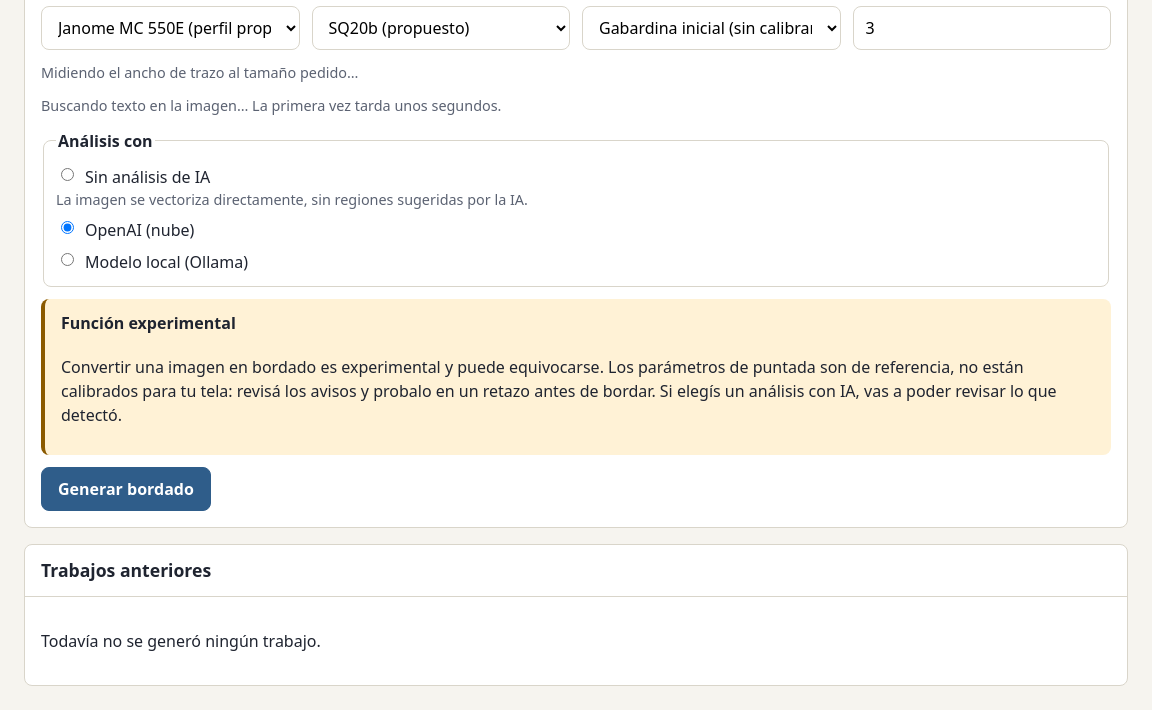
recorrido principal (cliente SIMULADO) › sigue el flujo inicial: proyecto, asset, revisión inicial (base null) y recién entonces el job
Earlier steps of the test are not shown.
(page scrolled)
Step 1. Click the button "Generar bordado" → {"x": 126, "y": 490}, box x1=41 y1=468 x2=211 y2=512
(page scrolled)
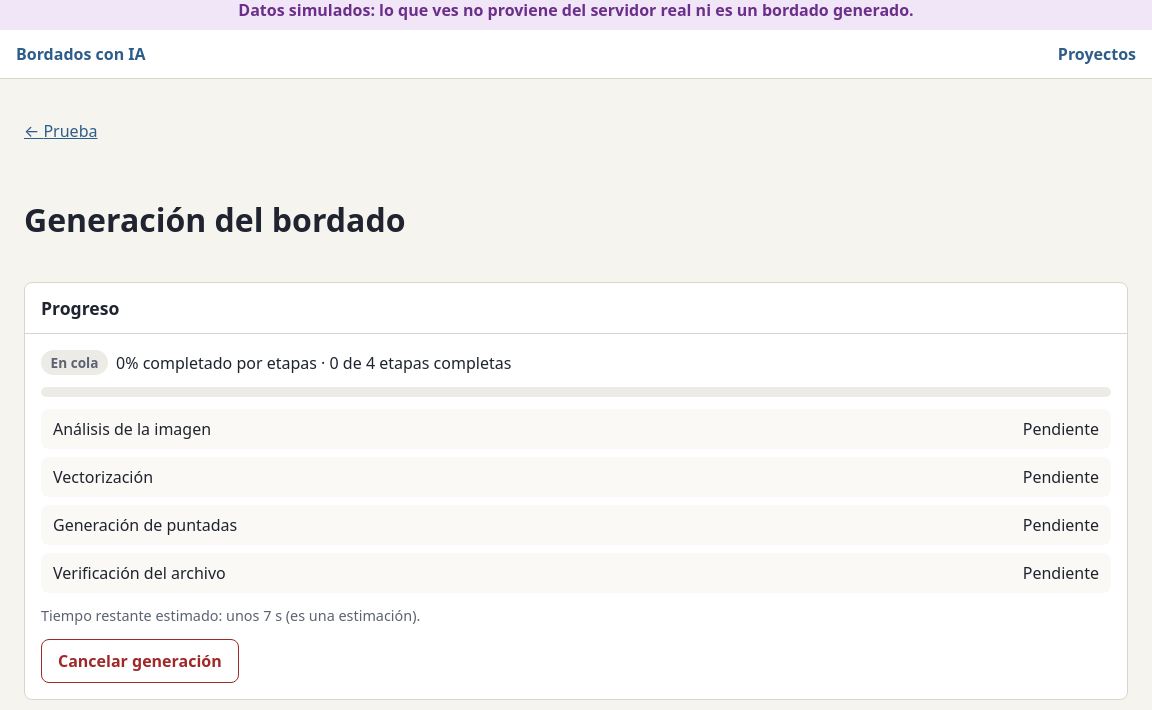
Check: the heading "Generación del bordado" is shown, box x1=24 y1=198 x2=406 y2=241
